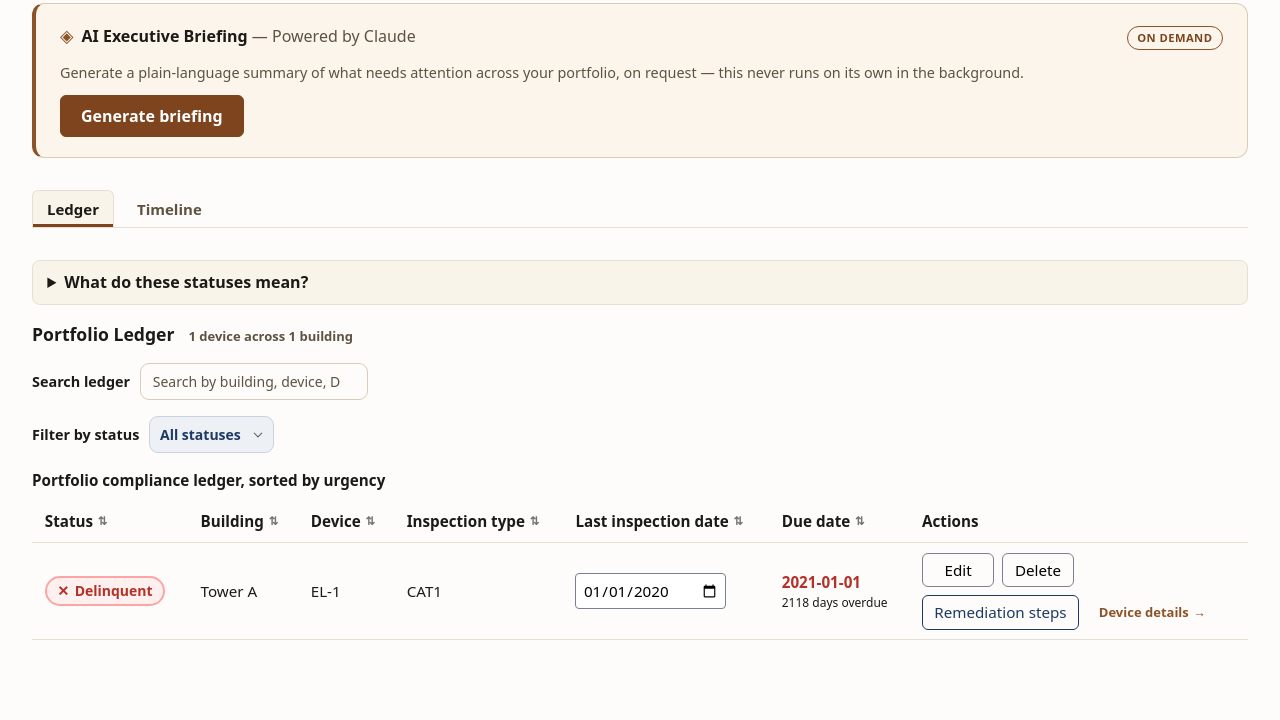
Test: App › refetches the shared ledger after an inline Save in the Ledger tab, without disturbing an unrelated open Edit form
(page scrolled)
Type "2026-07-01" into the date field named "last inspection date for el-1". click: (651, 591)
box: [576,573,726,609]
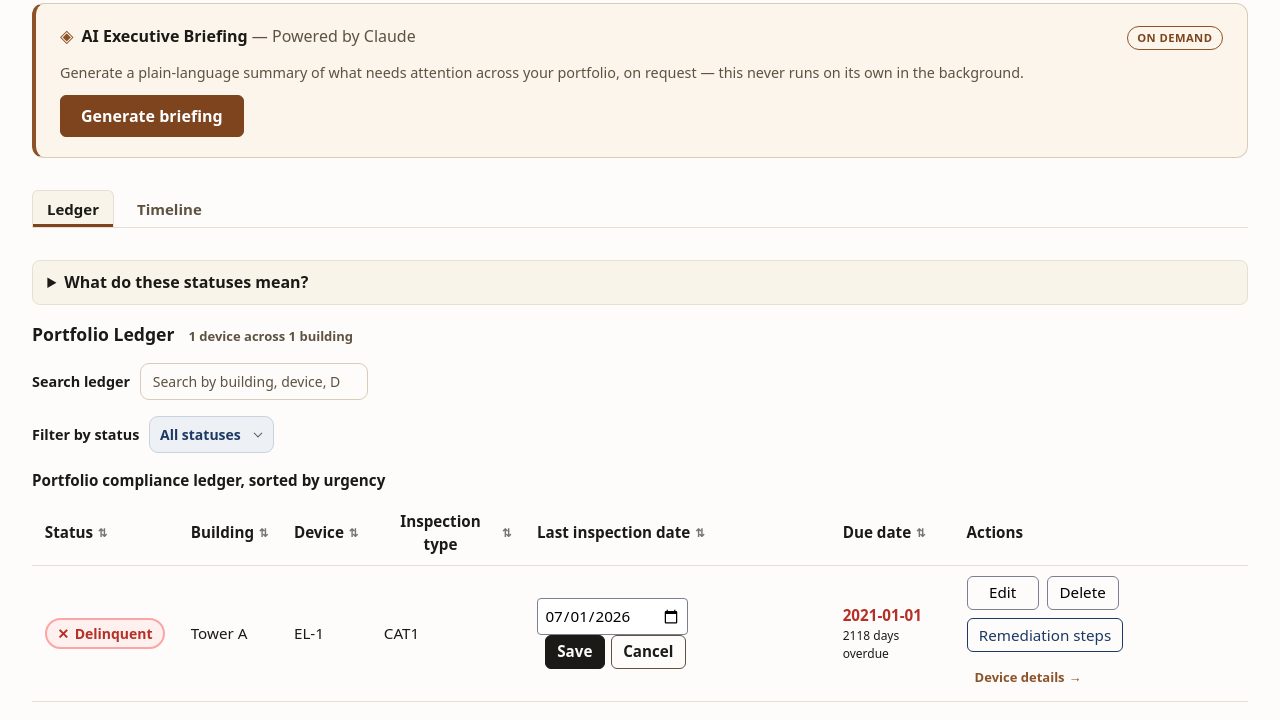
Click the button with aria-label "save inspection date for el-1". click: (575, 652)
box: [545,635,604,669]
(page scrolled)
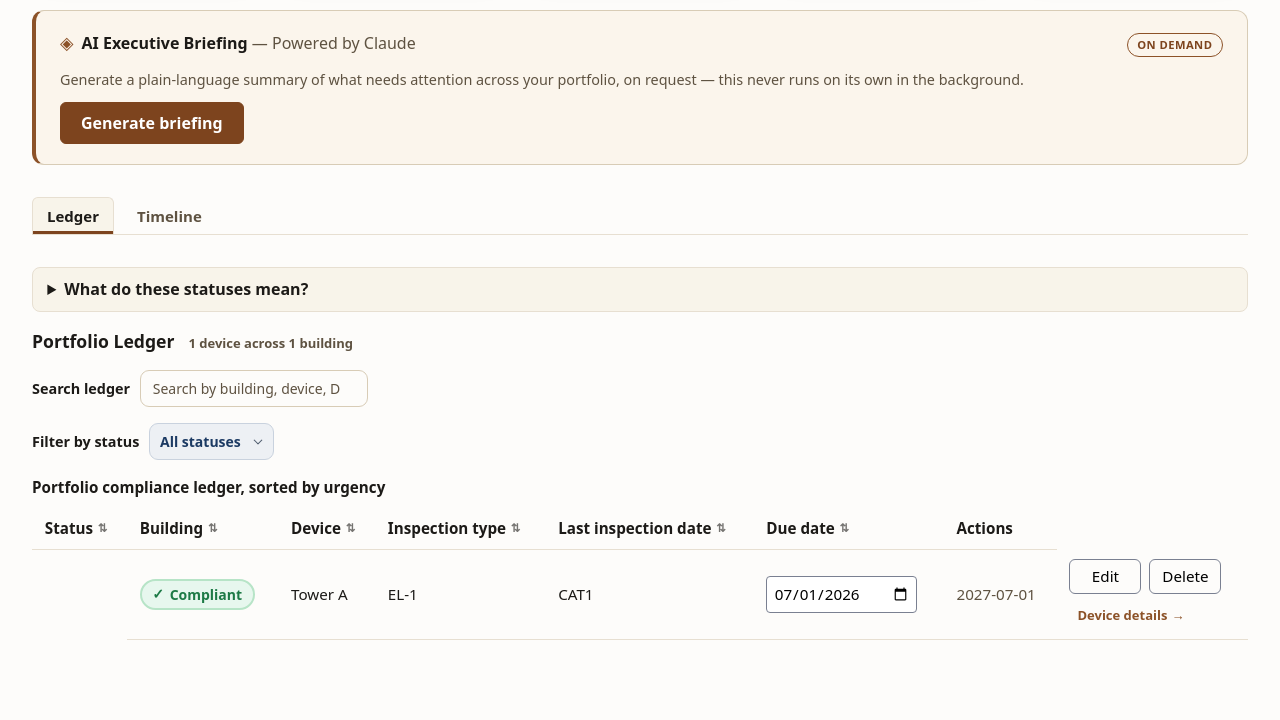
Result: the text "2027-07-01" is shown at [956,584,1036,604]
